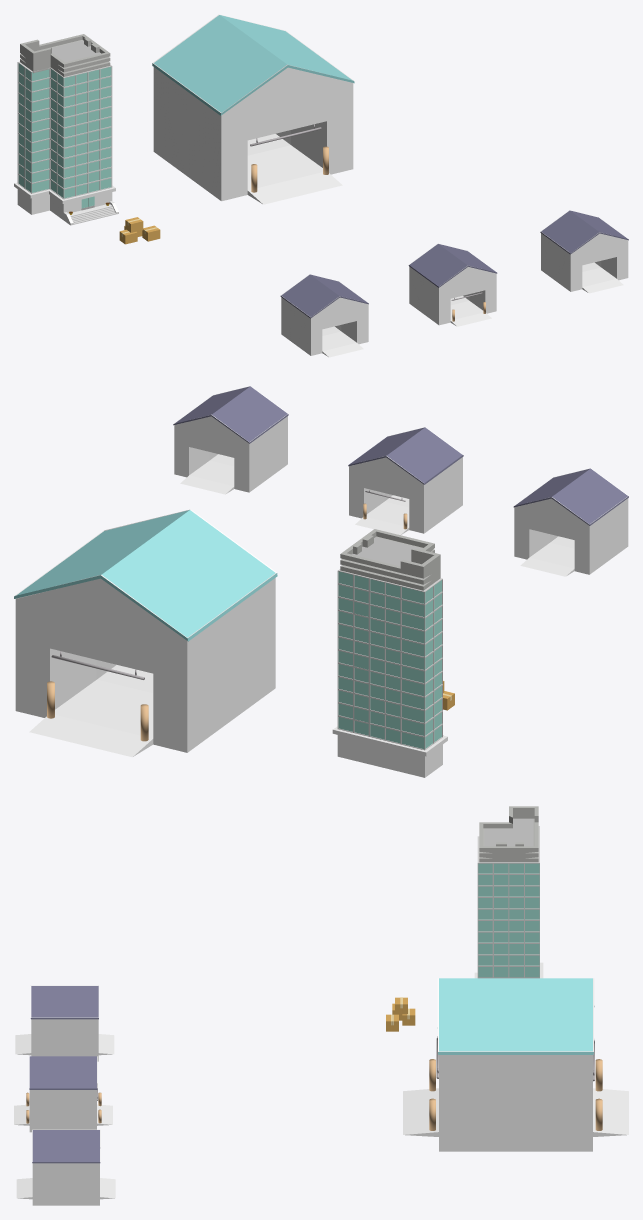
Rendered from __Export Version__Simule1 - Building _ Box _ Big warehouse _ Small warehouse .fbx.
The picture shows the model from 3 angles, top to bottom: view 1: azimuth 30°, elevation 25°; view 2: azimuth 150°, elevation 25°; view 3: azimuth 270°, elevation 25°; orthographic projection. The views are drawn at different scales.
Parts seen in each view (by area): view 1: Big warehouse, Building, Small warehouse.002, Small warehouse.003, Small warehouse.001; view 2: Big warehouse, Building, Small warehouse.002, Small warehouse.003, Small warehouse.001; view 3: Big warehouse, Building, Small warehouse.003, Small warehouse.001, Small warehouse.002.
Part boxes in pixels (left/top/right/bottom): Big warehouse: left=152, top=14, right=354, bottom=204; Building: left=14, top=34, right=118, bottom=225; Small warehouse.002: left=280, top=274, right=368, bottom=357; Small warehouse.003: left=540, top=210, right=628, bottom=293; Small warehouse.001: left=408, top=243, right=497, bottom=326; Big warehouse: left=14, top=509, right=277, bottom=757; Building: left=332, top=529, right=447, bottom=777; Small warehouse.002: left=513, top=468, right=628, bottom=576; Small warehouse.003: left=173, top=386, right=288, bottom=494; Small warehouse.001: left=348, top=427, right=463, bottom=535; Big warehouse: left=403, top=978, right=628, bottom=1151; Building: left=474, top=806, right=543, bottom=978; Small warehouse.003: left=16, top=1129, right=115, bottom=1205; Small warehouse.001: left=14, top=1056, right=112, bottom=1132; Small warehouse.002: left=15, top=985, right=114, bottom=1061.
Bounding box in the file's own units: 9093 × 3671 × 10970.
